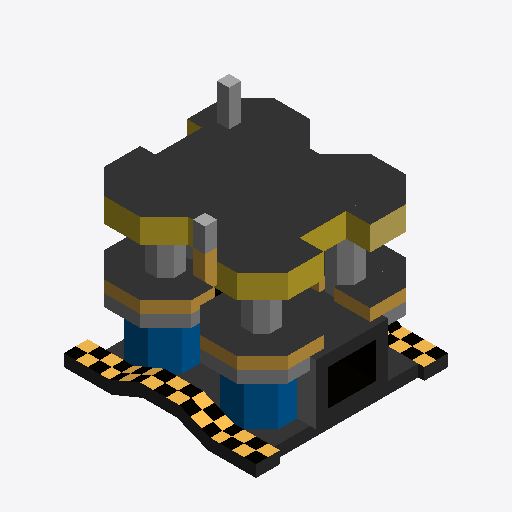
A Minecraft block model of 114 cuboids, rendered isometrically (azimuth 45°, elevation 35.3°) with the resource pack's own textures.
Visible parts, largest first — element 103, element 49, element 2, element 48, element 83, element 35, element 38, element 30, element 45, element 96, element 100, element 31 (+28 smaller).
Part boxes in pixels (left/top/right/bottom): element 103: left=118, top=109, right=380, bottom=258; element 49: left=186, top=257, right=387, bottom=373; element 2: left=106, top=339, right=417, bottom=456; element 48: left=297, top=360, right=387, bottom=428; element 83: left=346, top=199, right=405, bottom=251; element 35: left=200, top=314, right=271, bottom=383; element 38: left=334, top=273, right=405, bottom=324; element 30: left=104, top=259, right=175, bottom=327; element 45: left=208, top=424, right=279, bottom=477; element 96: left=237, top=245, right=287, bottom=299; element 100: left=104, top=182, right=163, bottom=243; element 31: left=140, top=286, right=190, bottom=327.
Bounding box in the file's own units: 16 × 16 × 16.